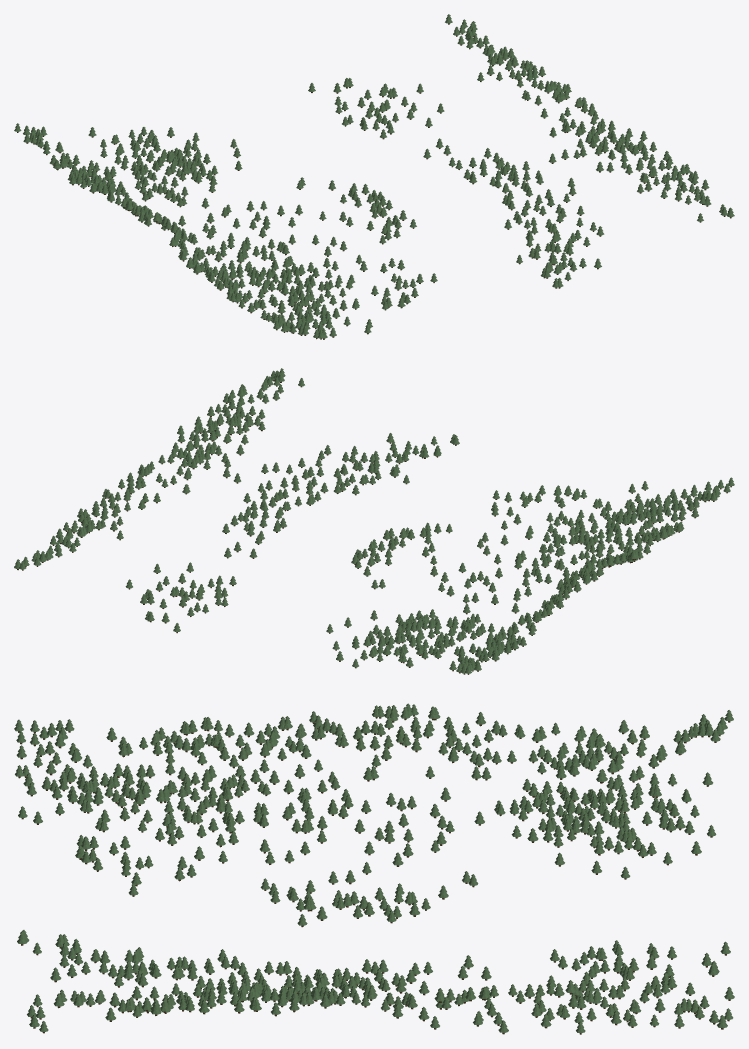
The model's file is map_trees1.glb.
The picture shows the model from 3 angles, top to bottom: view 1: azimuth 30°, elevation 25°; view 2: azimuth 150°, elevation 25°; view 3: azimuth 270°, elevation 25°; orthographic projection. The views are drawn at different scales.
Bounding box in the file's own units: 2.02 × 0.2256 × 2.03.
